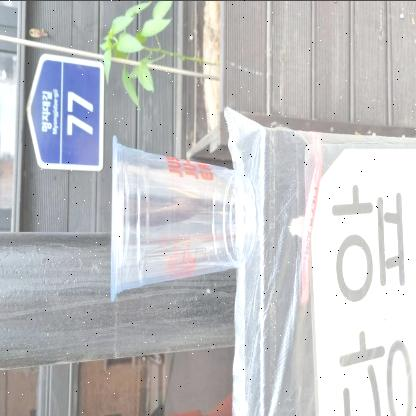Others: (104, 128, 260, 306)
